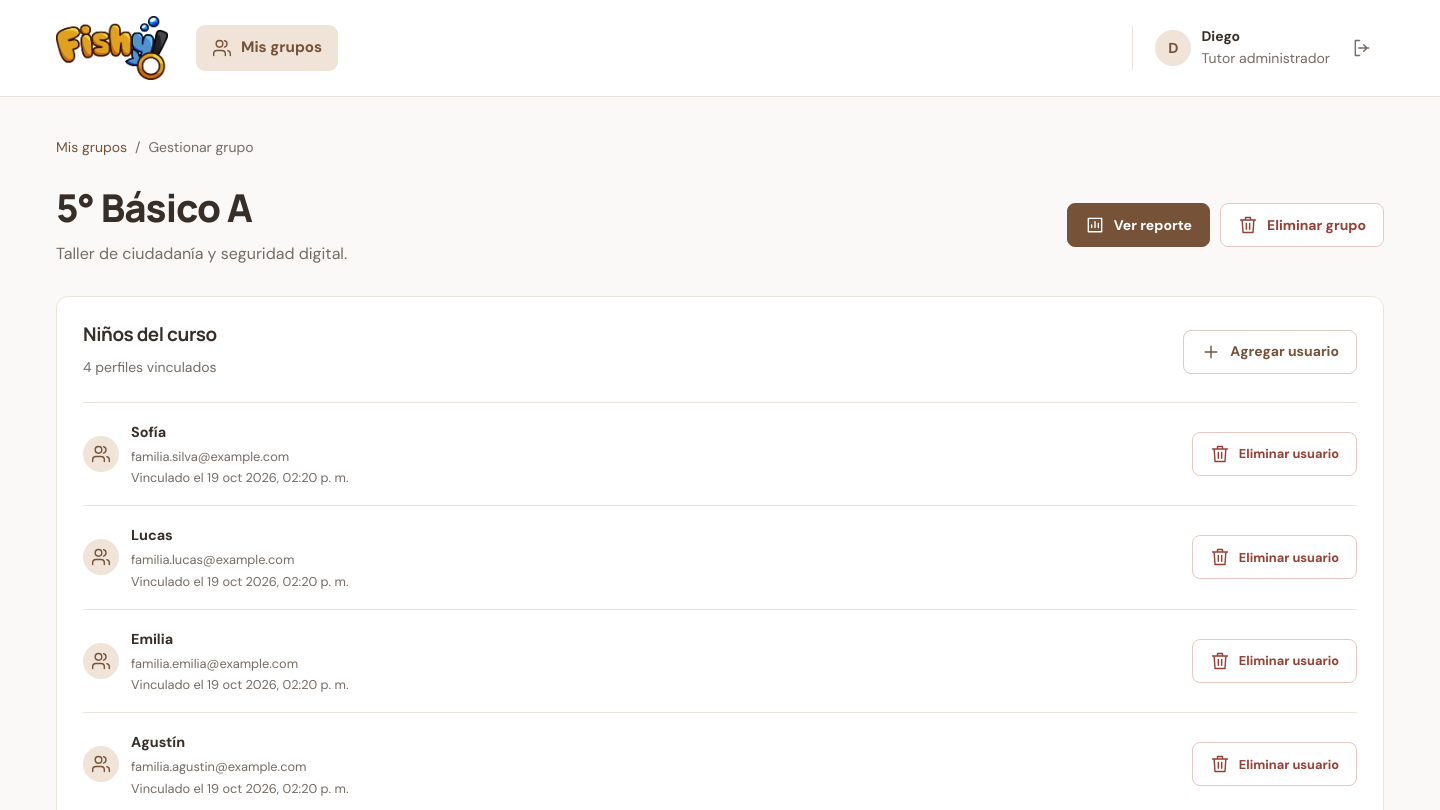
criterios de aceptación en las pantallas › quitar un integrante exige confirmar y conserva el resto del grupo
What coordinates should you click on to do the following:
click the button with aria-label "Eliminar usuario Sofía"
I would click on:
 (1274, 454)
Its box is [1192, 432, 1357, 476].
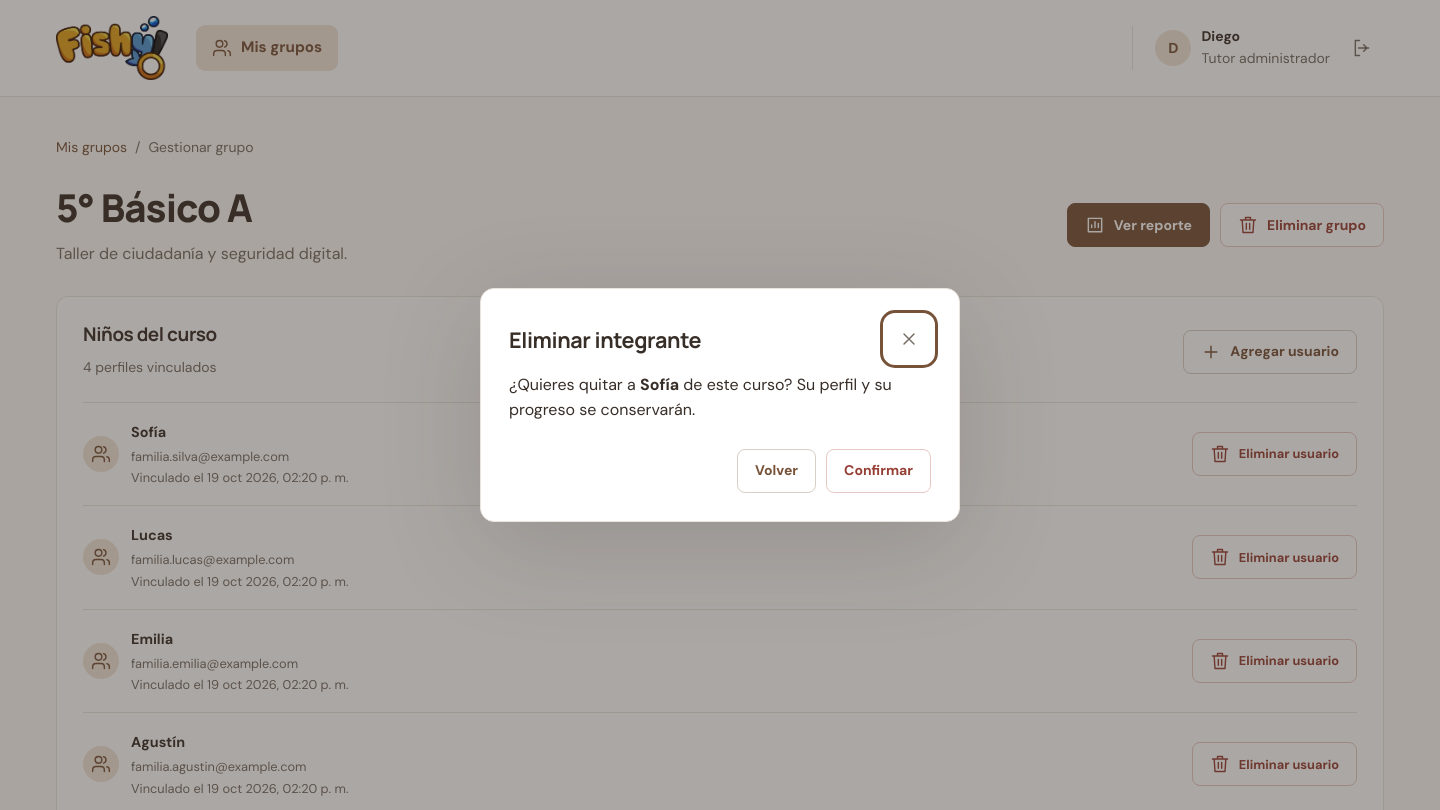
What coordinates should you click on to do the following:
click the button "Volver"
I would click on:
 (777, 471)
Its box is [737, 449, 816, 493].
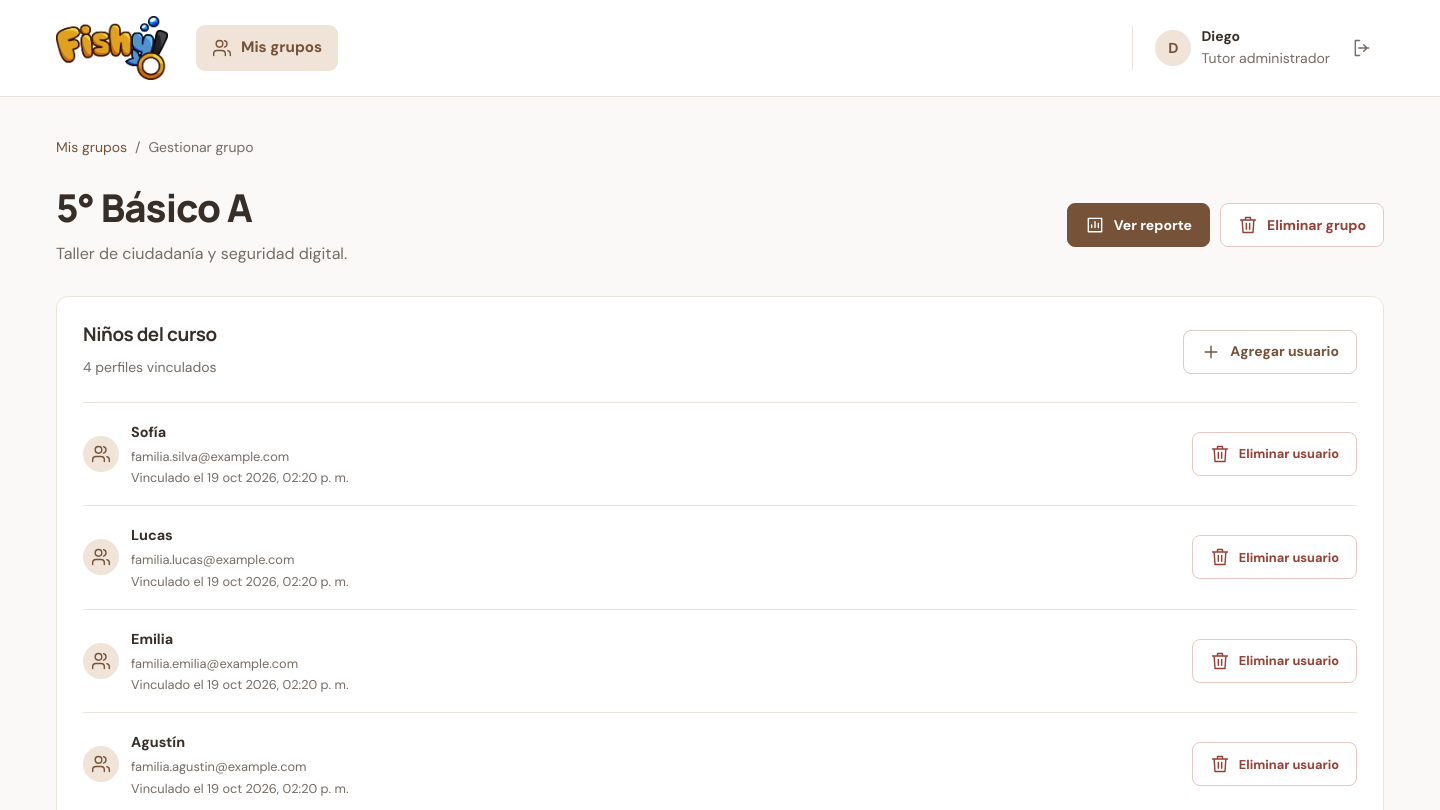
Expected: the text "Sofía" is shown, [131, 423, 166, 441]
What coordinates should you click on to do the following:
click the button with aria-label "Eliminar usuario Sofía"
I would click on:
 (1274, 454)
Its box is [1192, 432, 1357, 476].
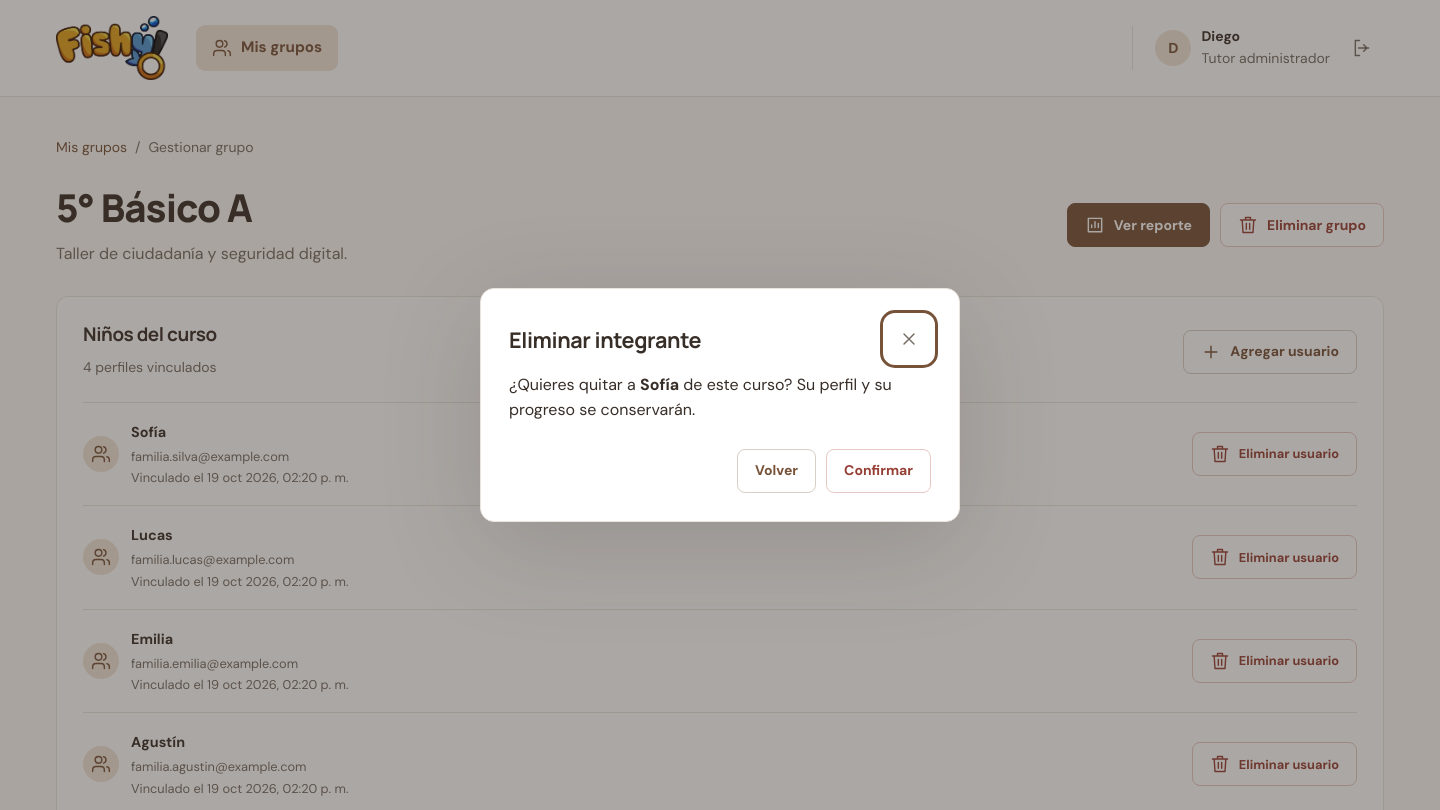
What coordinates should you click on to do the following:
click the button "Confirmar"
I would click on:
 (879, 471)
Its box is [826, 449, 931, 493].
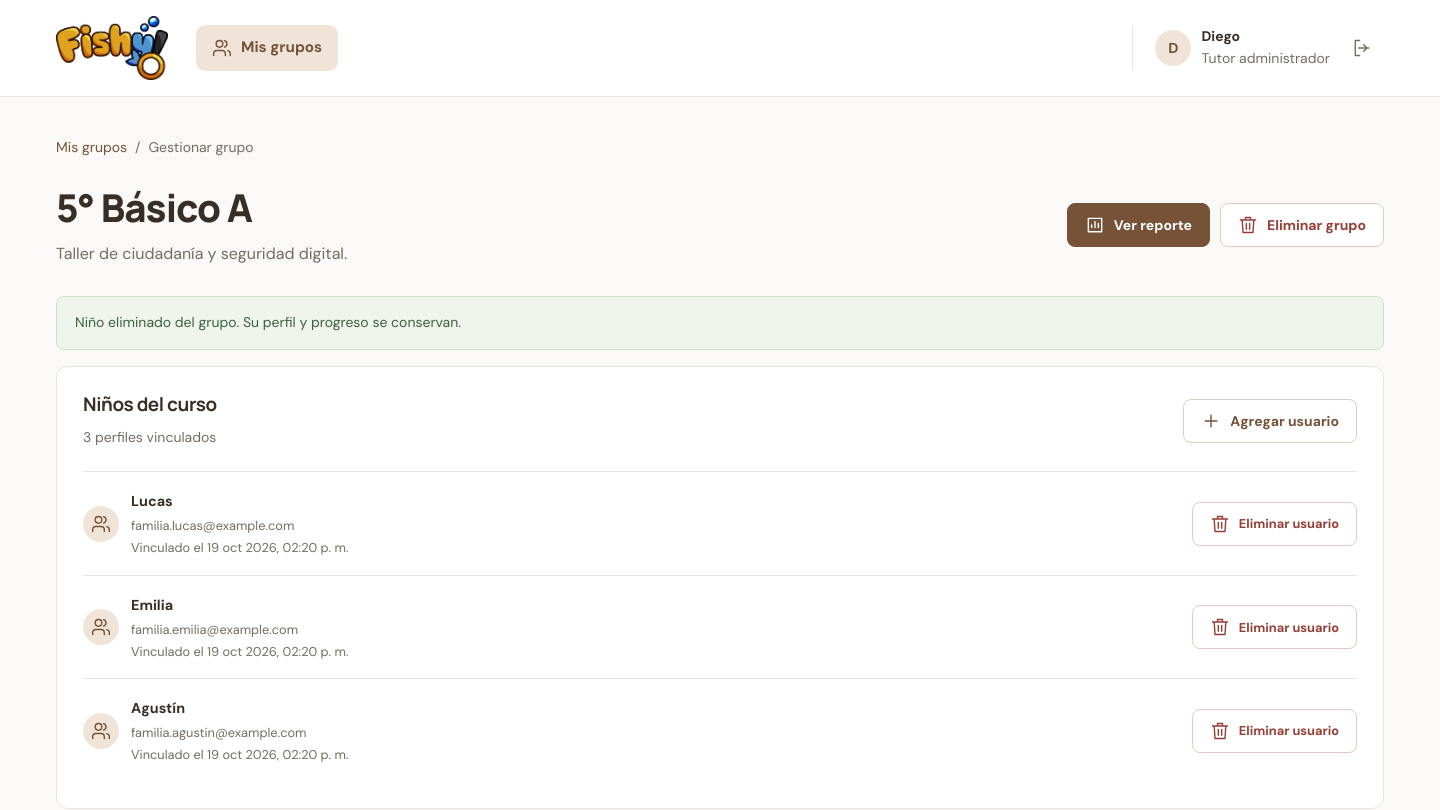
Expected: the text "Lucas" is shown, [131, 492, 173, 510]
Result: the text "Sofía" is gone
Result: the message shows "Su perfil y progreso se conservan" at [75, 313, 461, 331]
